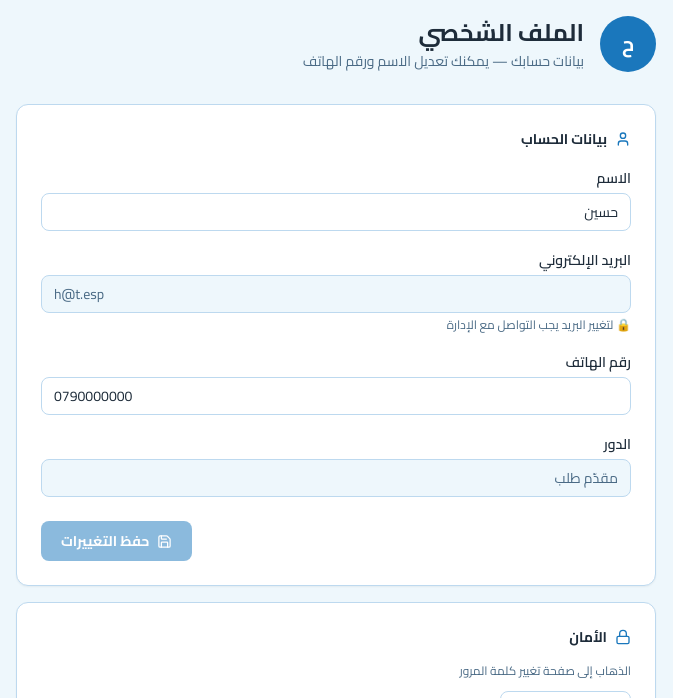
Profile — JORD-10 › keeps the save button disabled until a field diverges from user props
Expected: the button "حفظ التغييرات" is disabled, [41, 521, 192, 561]
In the field labelled "الاسم": point(336, 212) [41, 193, 631, 231], type "ي"
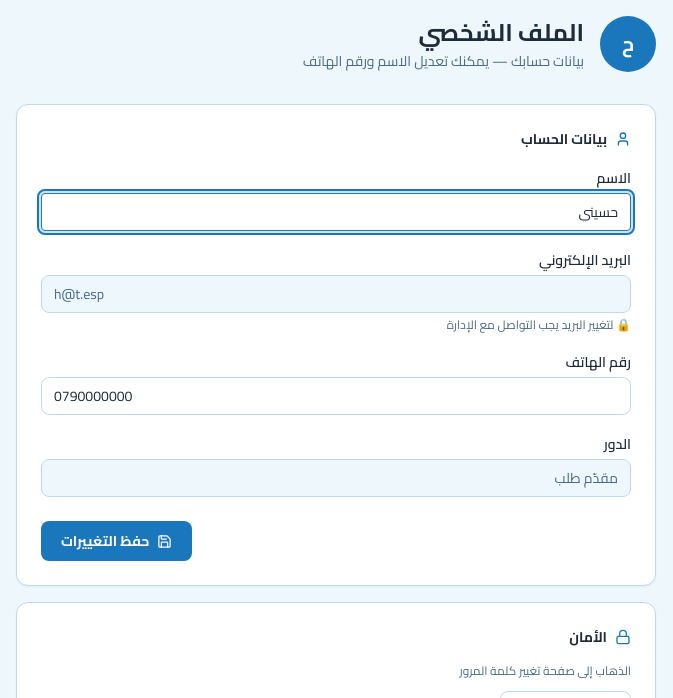
Expected: the button "حفظ التغييرات" is enabled, [41, 521, 192, 561]
